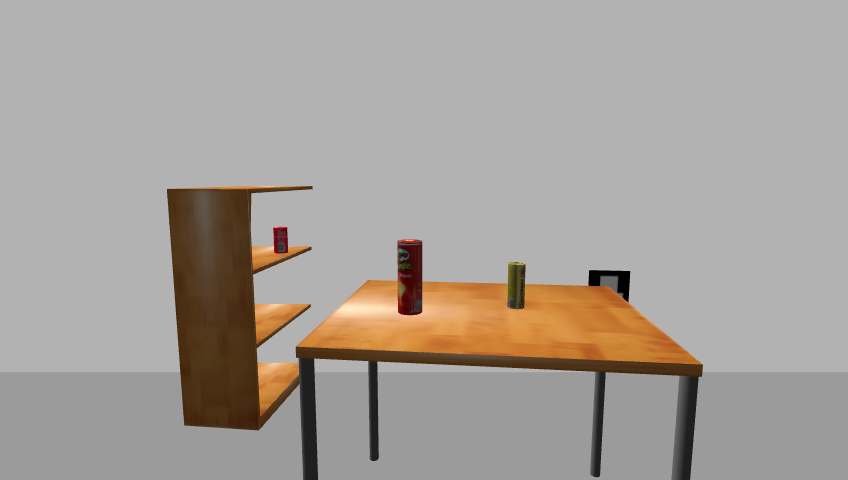aruco marker: (584, 269, 634, 305)
biscuits pack: (507, 262, 527, 311)
bookshelf: (163, 182, 316, 433)
coke can: (271, 226, 290, 254)
dinner table: (291, 279, 711, 479)
pringles can: (396, 239, 424, 318)
